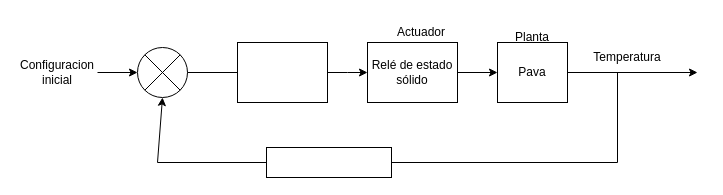
This 723x195 diagram has some shape labels left out. The centre of each missing label's shape, as x and y in pixels:
"Control automatico" belongs at (282,72).
"Sensor temperatura" belongs at (329,162).
